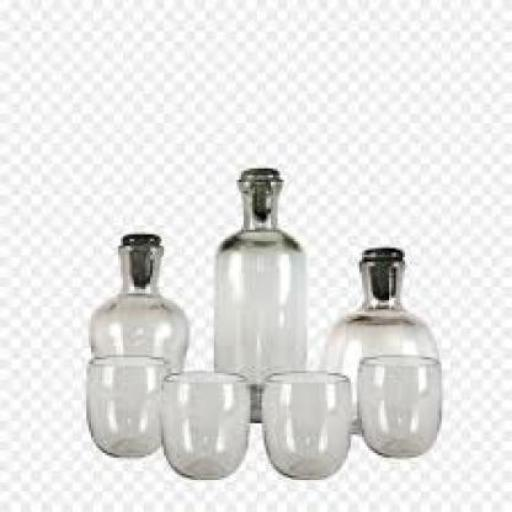glass: (214, 175, 303, 423), (319, 257, 434, 432), (86, 232, 185, 382), (257, 371, 351, 478), (161, 369, 249, 473), (358, 352, 441, 454), (84, 353, 164, 457), (234, 164, 273, 180), (361, 246, 403, 259), (121, 232, 155, 246)
